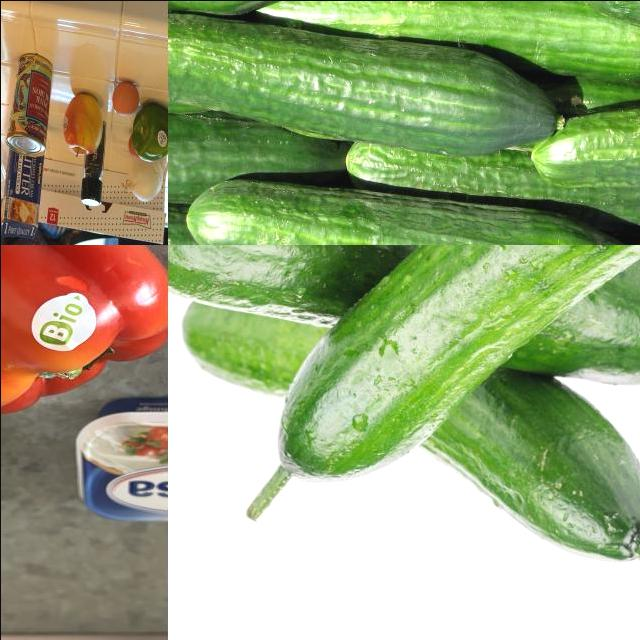bell_pepper: (80, 118, 108, 211), (130, 105, 168, 162)
cabbage: (1, 245, 168, 422)
cucumber: (179, 305, 640, 567), (271, 245, 640, 496), (168, 245, 640, 381), (168, 17, 561, 158), (187, 182, 640, 245), (527, 102, 640, 196), (565, 1, 640, 58)
egg: (110, 74, 140, 116)
onion: (123, 152, 168, 204)
